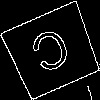C: (27, 26, 78, 83)
